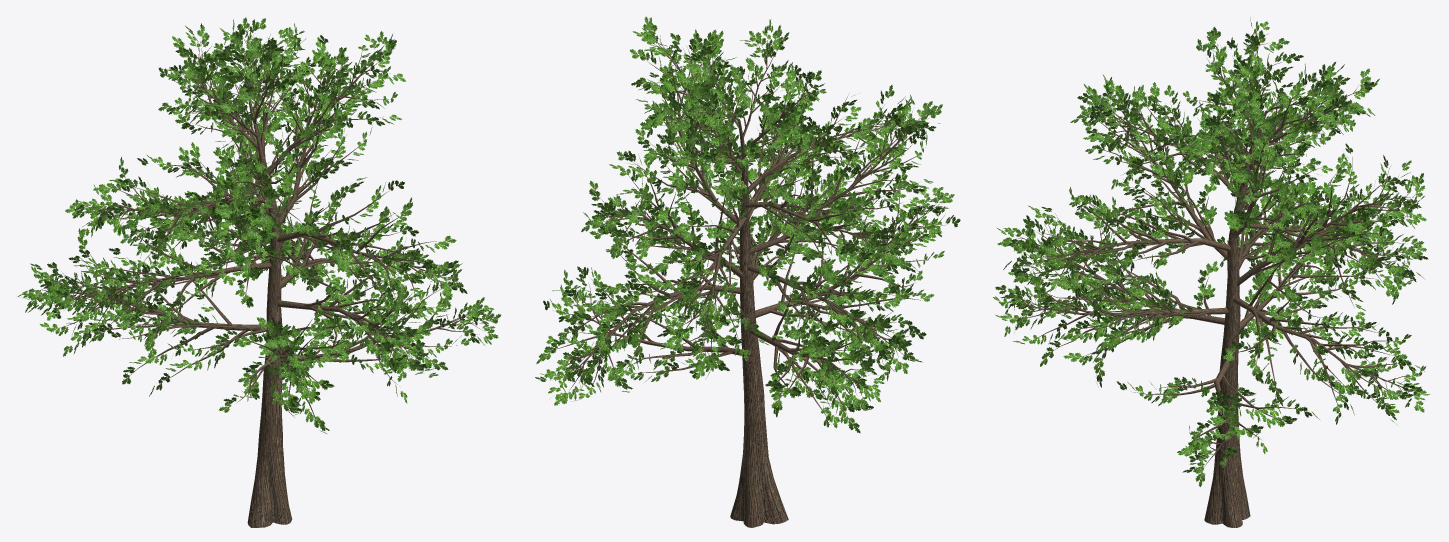
Rendered from OakTreeM02.FBX.
3 views of the same model, side by side, from view 1: azimuth 30°, elevation 25°; view 2: azimuth 150°, elevation 25°; view 3: azimuth 270°, elevation 25° (orthographic).
Visible parts, largest first — view 1: OakTree02; view 2: OakTree02; view 3: OakTree02.
Boxes of the visible parts, <box> form: OakTree02: <box>17,17,501,527</box>; OakTree02: <box>535,16,960,527</box>; OakTree02: <box>993,18,1429,527</box>.
Bounding box in the file's own units: 6.64 × 7.53 × 6.22.
